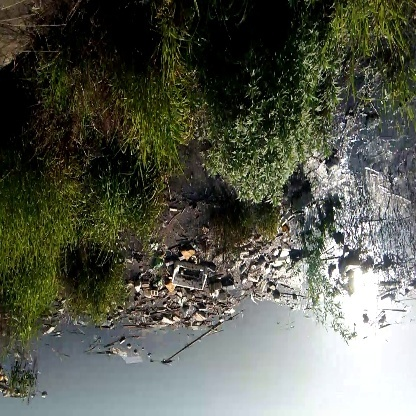branch: (164, 323, 225, 363)
